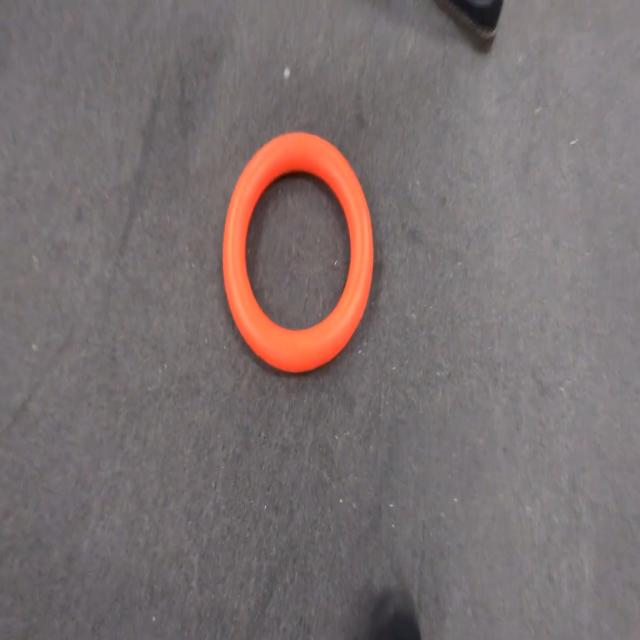note: (220, 136, 372, 376)
